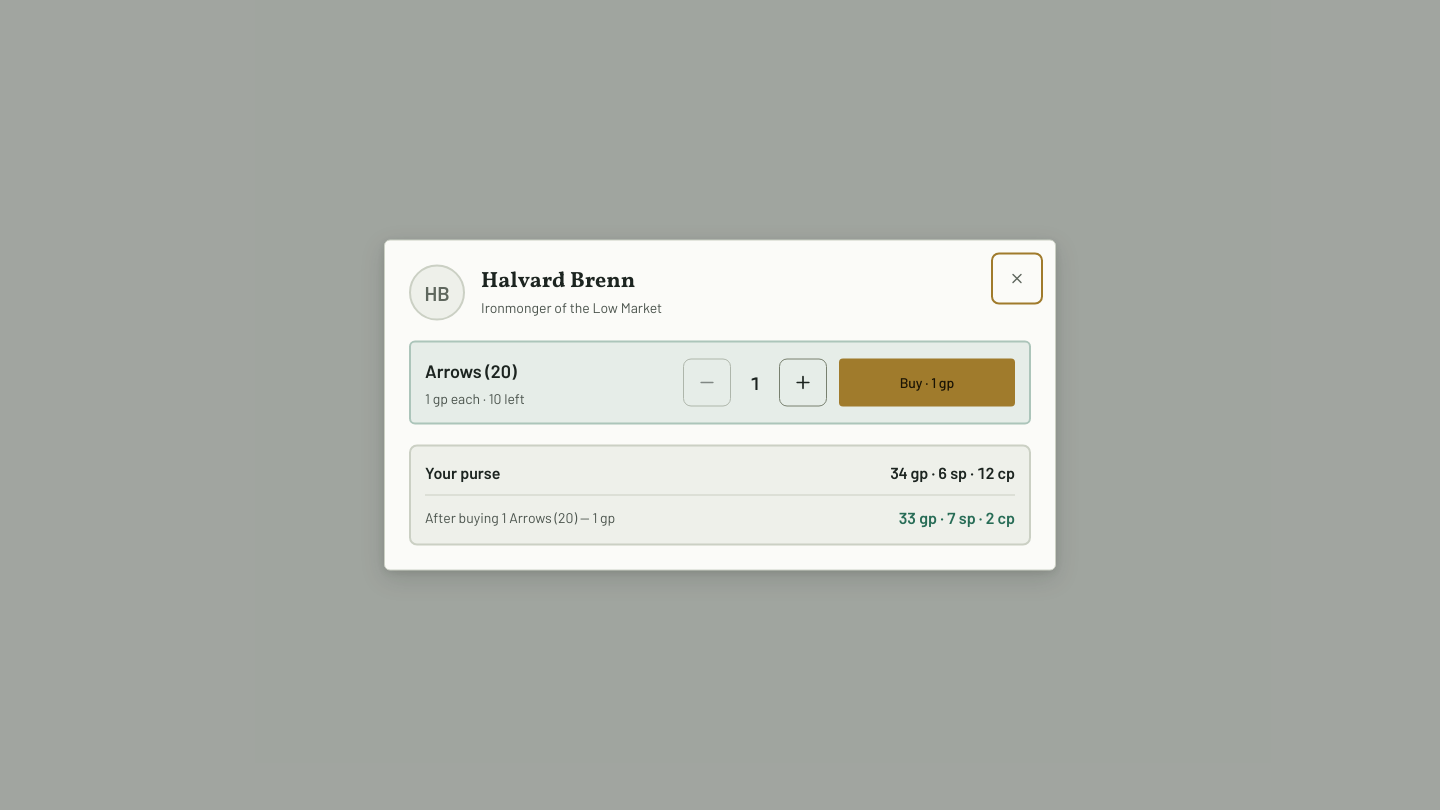
Test case: purchase flow › reuses the same requestId across a retry of the same intent, and mints a new one after success
This screenshot has width=1440, height=810.
expect the heading "Halvard Brenn" is shown: met, box [481,268,662,295]
What coordinates should you click on to do the following:
click the button "Buy · 1 gp"
I would click on:
 (927, 382)
Its box is [839,358,1015,406].
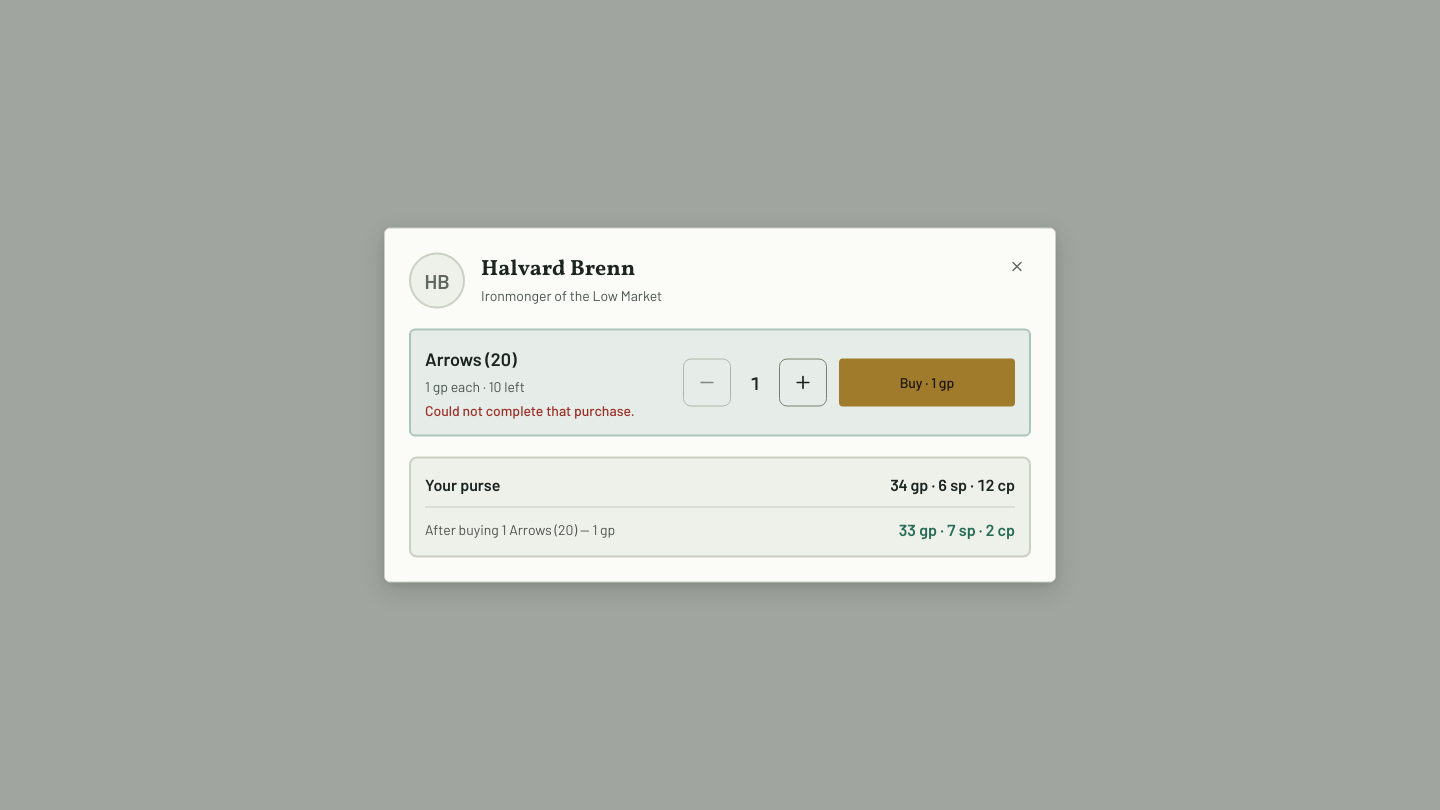
expect the text "Could not complete that purchase." is shown: met, box [425,400,671,420]
What coordinates should you click on to do the following:
click the button "Buy · 1 gp"
I would click on:
 (927, 382)
Its box is [839,358,1015,406].
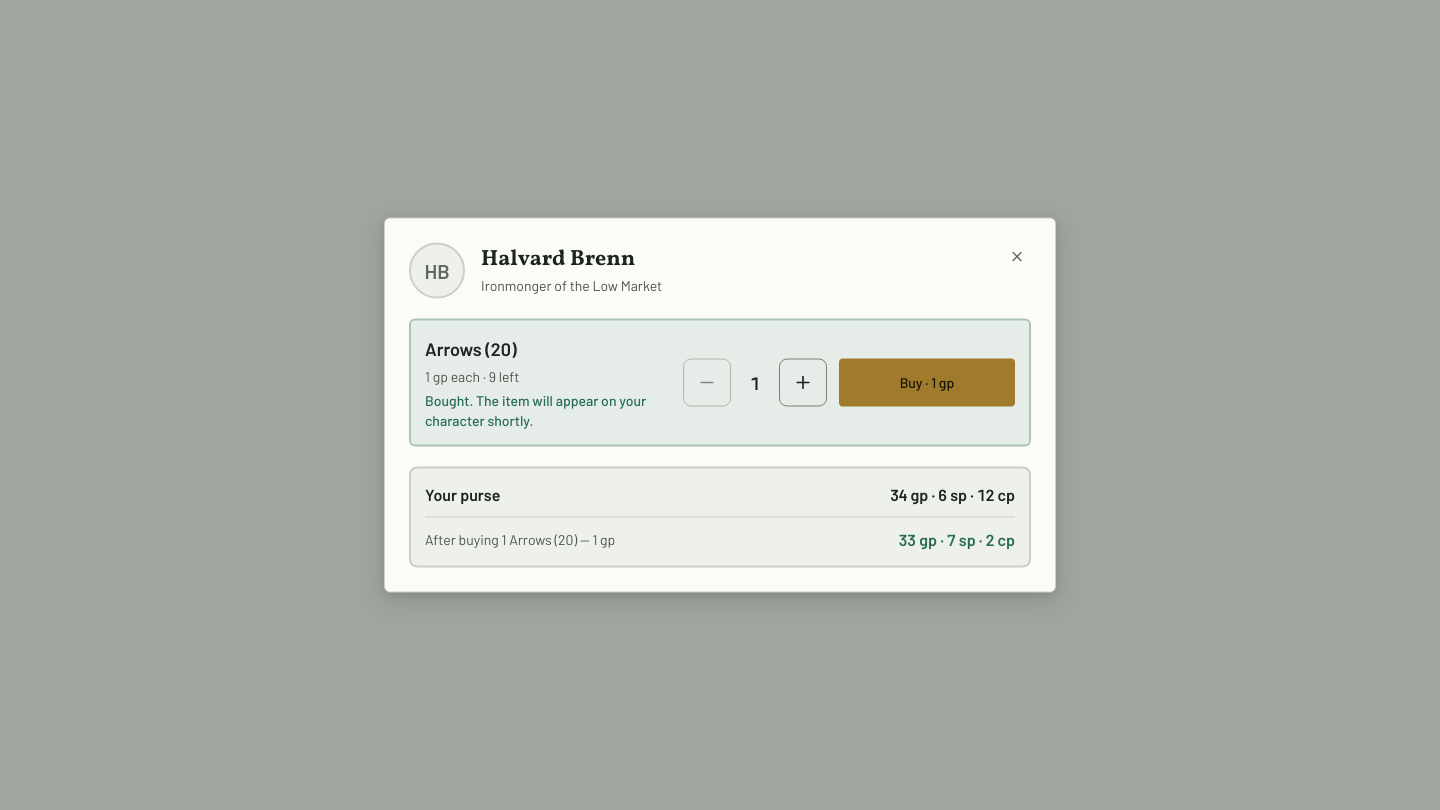
expect the text "Bought. The item will appear on your character shortly." is shown: met, box [425,390,671,430]
